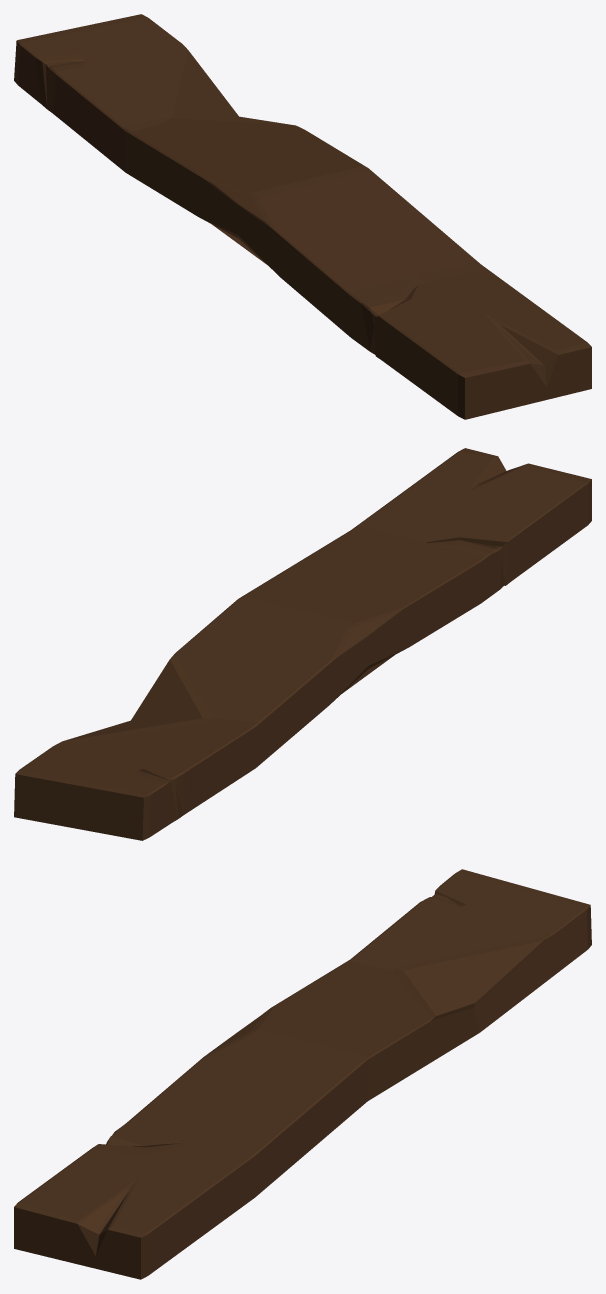
The model's file is Plank 2.fbx.
3 renders of one model, top to bottom at view 1: azimuth 30°, elevation 25°; view 2: azimuth 150°, elevation 25°; view 3: azimuth 330°, elevation 25°, orthographic.
Parts seen in each view (by area): view 1: Plank .002; view 2: Plank .002; view 3: Plank .002.
Part boxes in pixels (x1=…): Plank .002: x1=14, y1=14, x2=591, y2=419; Plank .002: x1=14, y1=448, x2=591, y2=840; Plank .002: x1=14, y1=869, x2=591, y2=1279.
Size of the model in its own units: 12 by 4.94 by 71.91.
